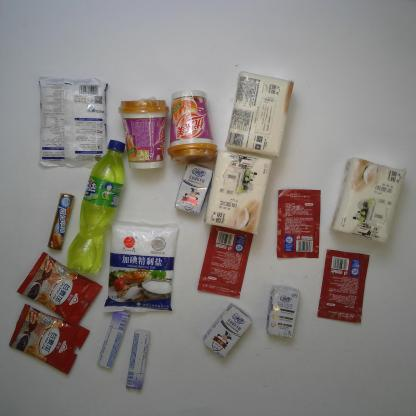Candy: (95, 310, 130, 370), (46, 192, 76, 250), (124, 328, 150, 390)
Drink: (67, 138, 126, 276)
Instant Drink: (15, 251, 103, 329), (7, 304, 90, 376), (166, 90, 218, 163), (116, 99, 168, 169)
Milk: (202, 302, 253, 359), (173, 162, 214, 216), (265, 284, 301, 338)
Seasoner: (102, 219, 181, 312), (36, 75, 108, 169), (197, 223, 258, 300), (315, 247, 370, 325), (274, 189, 323, 259)
Tissue: (332, 156, 407, 244), (225, 67, 296, 155), (204, 151, 273, 233)
